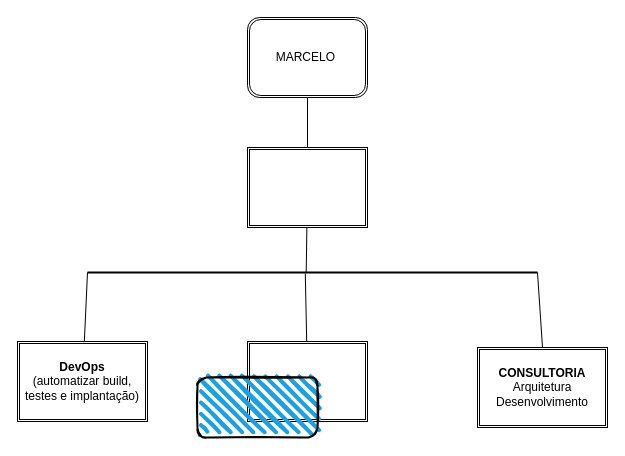
Image size: 625x456. Some labels were removed from this diagram. Each missing label, with the box of its shape:
MANTER SERVIDORES: (246, 340, 368, 422)
RGC: (246, 146, 368, 228)
